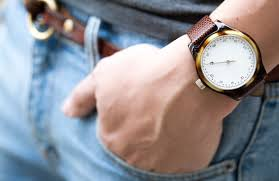clock: (201, 35, 257, 90)
